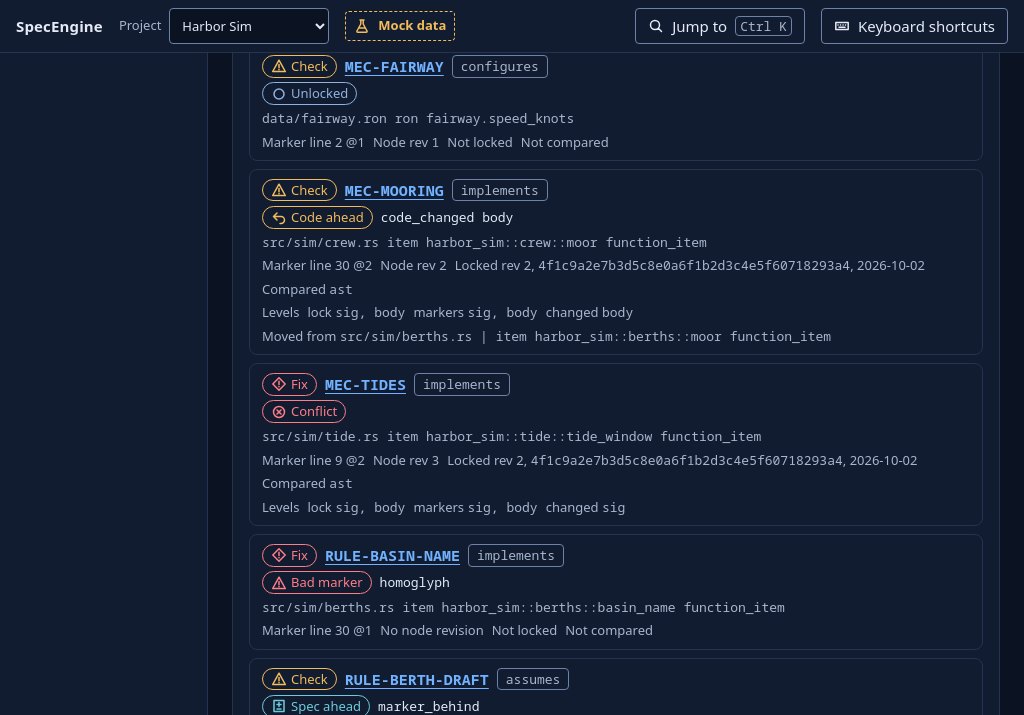
Test: Health over the mock › normal: a row's node opens its node in the tree
(page scrolled)
Click the link with class "health-code-id" showing "MEC-TIDES" at (366, 384), box [325,372,406,396]
(page scrolled)
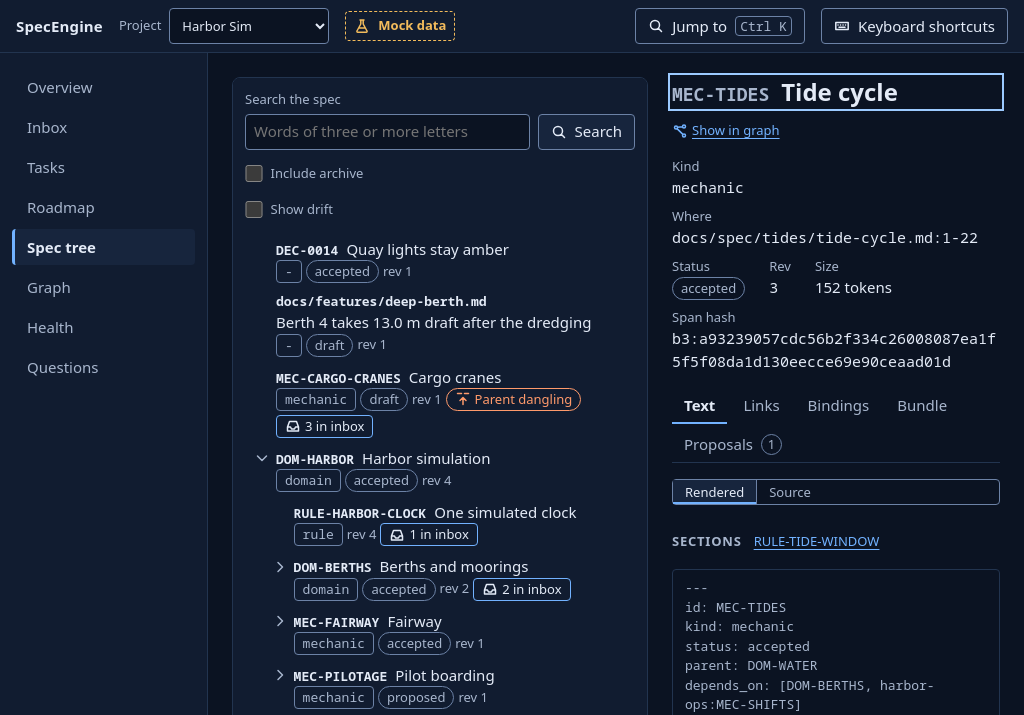
Now the heading shows "Tide cycle", box [781,75,898,108]
